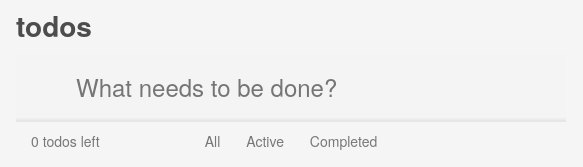
Test case: Input form › Form submission › Shows an error message on failed submission
Type "test" into the field with class "new-todo".
click(291, 87); type("test")  # box [16,54,566,120]
Then press Enter
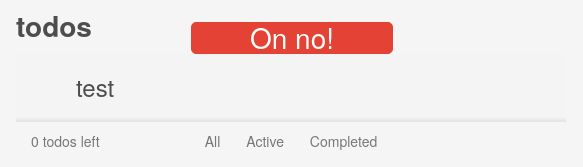
Now the text "On no!" is shown, box [191,22,393,54]
